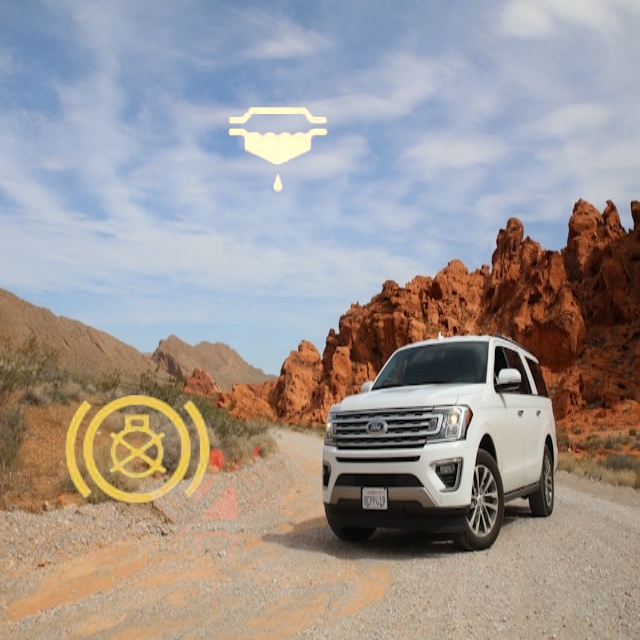symbol: (33, 347, 241, 555), (183, 55, 375, 247), (141, 416, 318, 593)
